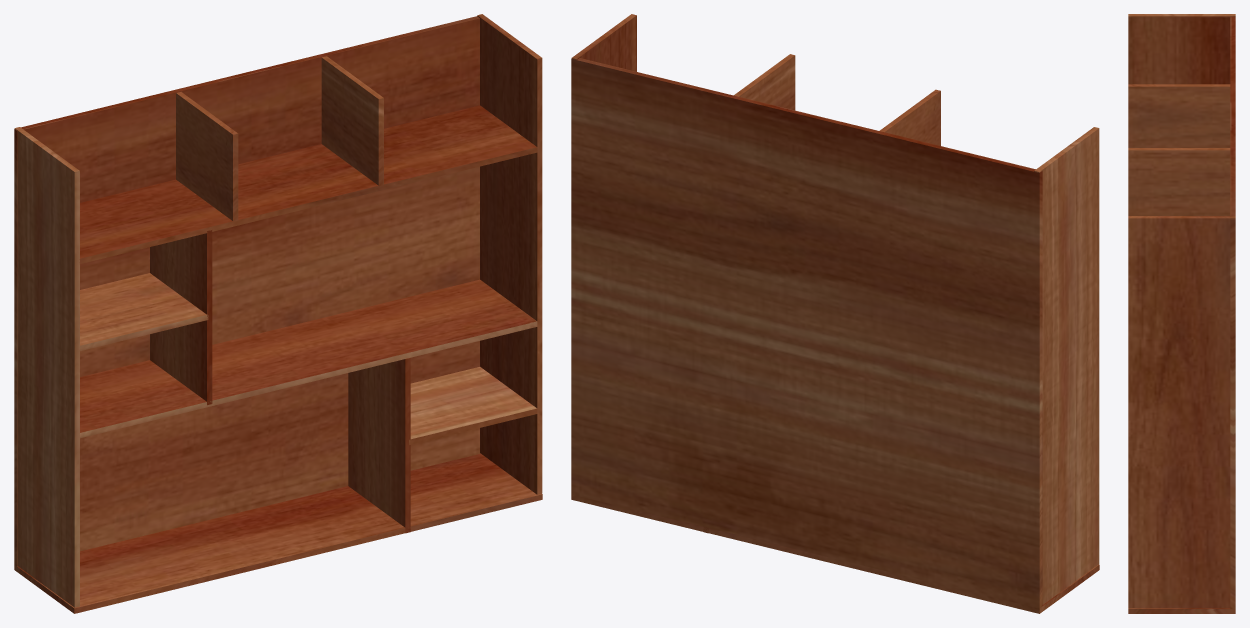
Rendered from zhiwujia5.glb.
3 views of the same model, side by side, from view 1: azimuth 30°, elevation 25°; view 2: azimuth 150°, elevation 25°; view 3: azimuth 270°, elevation 25° (orthographic). The views are drawn at different scales.
Visible parts, largest first — view 1: AZ_V2_MESH_zhiwujia0; view 2: AZ_V2_MESH_zhiwujia0; view 3: AZ_V2_MESH_zhiwujia0.
Boxes of the visible parts, left/top/right/bottom form: AZ_V2_MESH_zhiwujia0: left=14, top=14, right=542, bottom=613; AZ_V2_MESH_zhiwujia0: left=571, top=14, right=1099, bottom=613; AZ_V2_MESH_zhiwujia0: left=1128, top=14, right=1235, bottom=613.
Size of the model in its own units: 0.9 by 0.8119 by 0.2002.
1 material, 1 textured.
